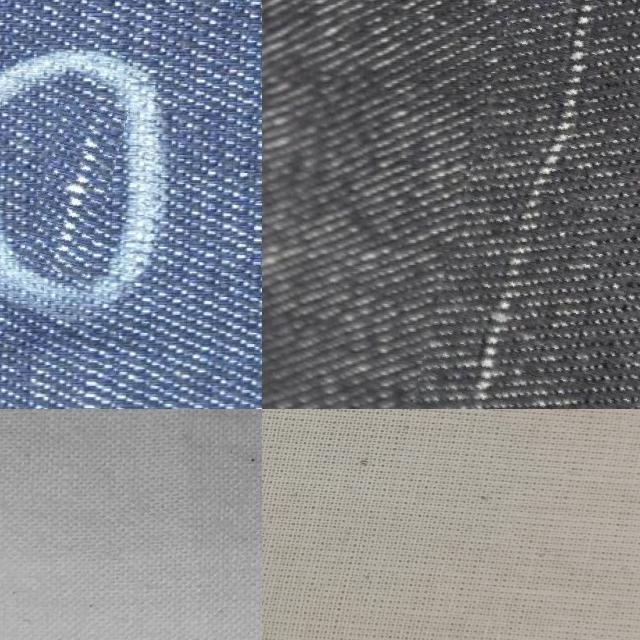stains: (438, 0, 640, 409), (31, 96, 119, 274)
